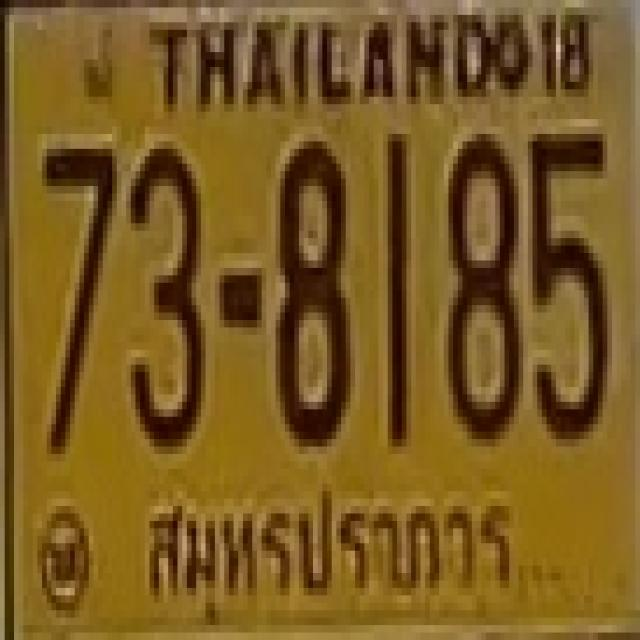1: (383, 130, 406, 443)
3: (126, 145, 201, 443)
5: (528, 130, 603, 436)
7: (40, 142, 114, 446), (40, 145, 114, 354)
8: (444, 130, 518, 436), (276, 134, 346, 439)
SPK: (129, 477, 523, 639)
